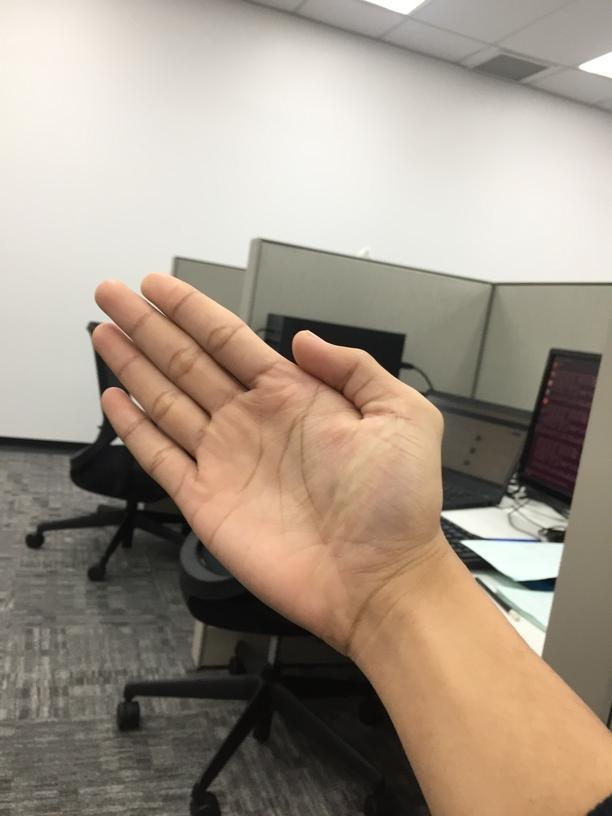hand: (91, 268, 449, 662)
